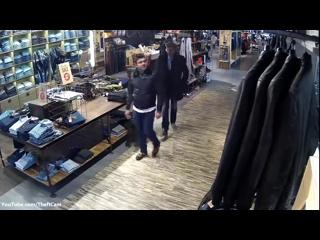Normal: (125, 52, 163, 160), (156, 40, 189, 140)
